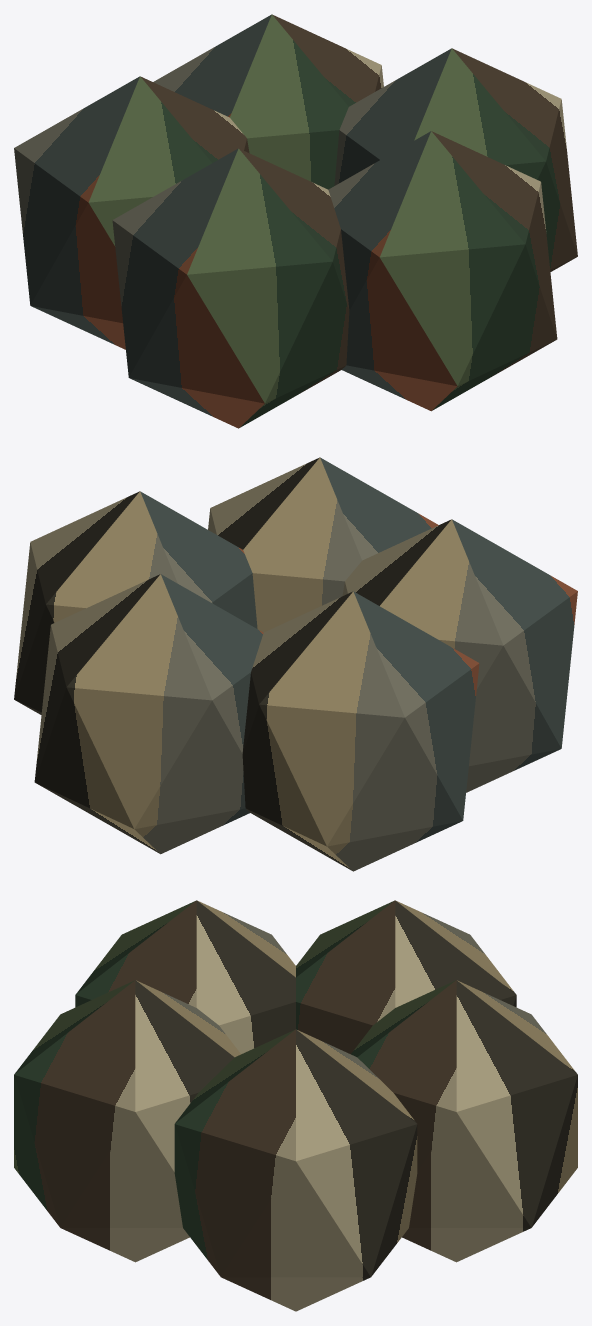
File: flowerInstances.obj
The picture shows the model from 3 angles, top to bottom: view 1: azimuth 30°, elevation 25°; view 2: azimuth 150°, elevation 25°; view 3: azimuth 270°, elevation 25°; orthographic projection.
Parts seen in each view (by area): view 1: flowerInstances; view 2: flowerInstances; view 3: flowerInstances.
Part boxes in pixels (<box>): flowerInstances: <box>14,14,577,428</box>; flowerInstances: <box>14,457,577,871</box>; flowerInstances: <box>14,900,577,1311</box>.
Bounding box in the file's own units: 0.4319 × 0.24 × 0.4344.
1 material, 1 textured.
